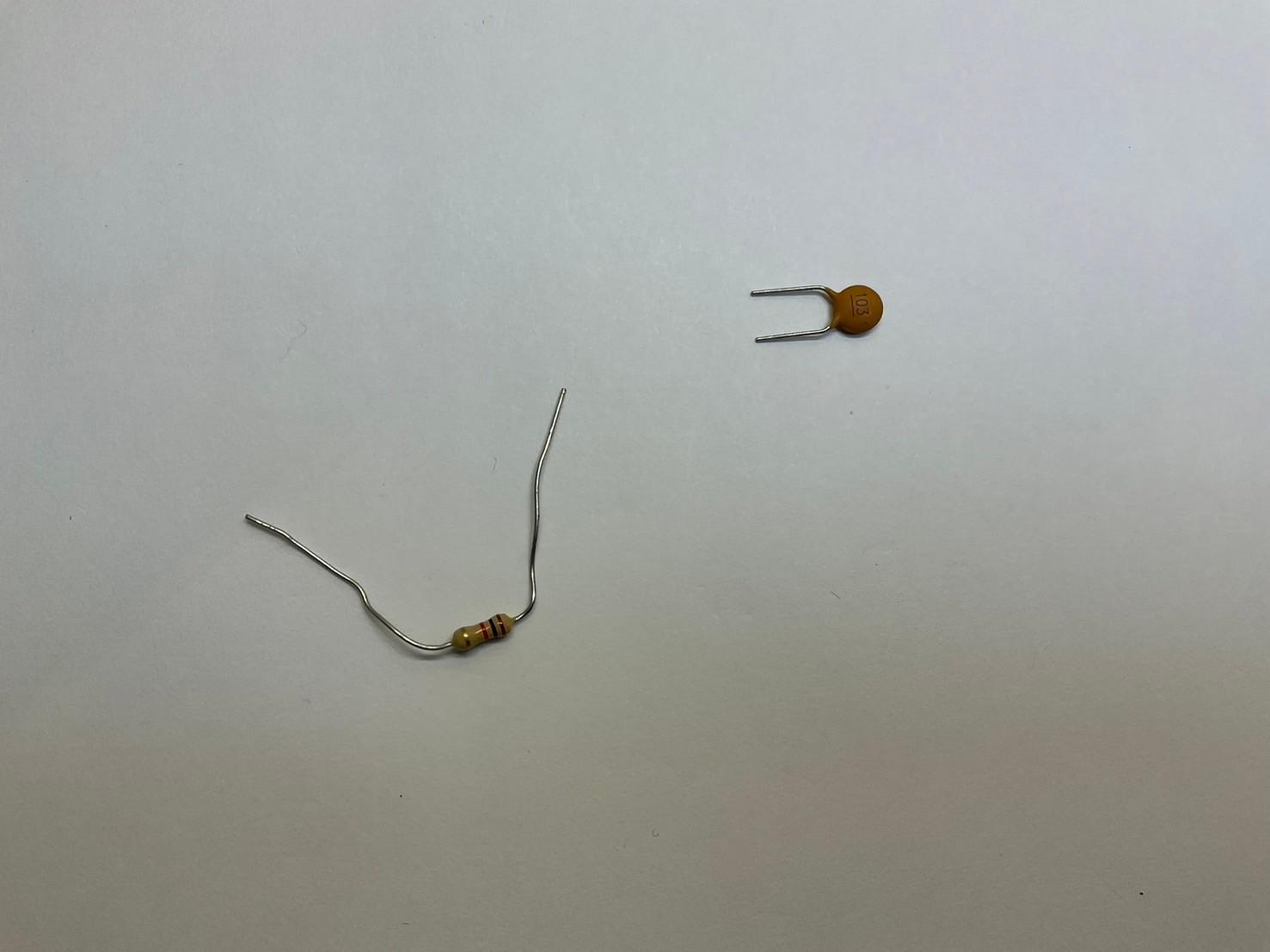resistor: (445, 610, 525, 658)
